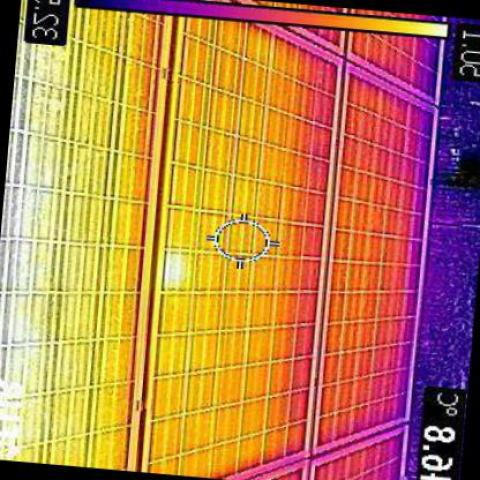fault: (162, 248, 188, 286)
